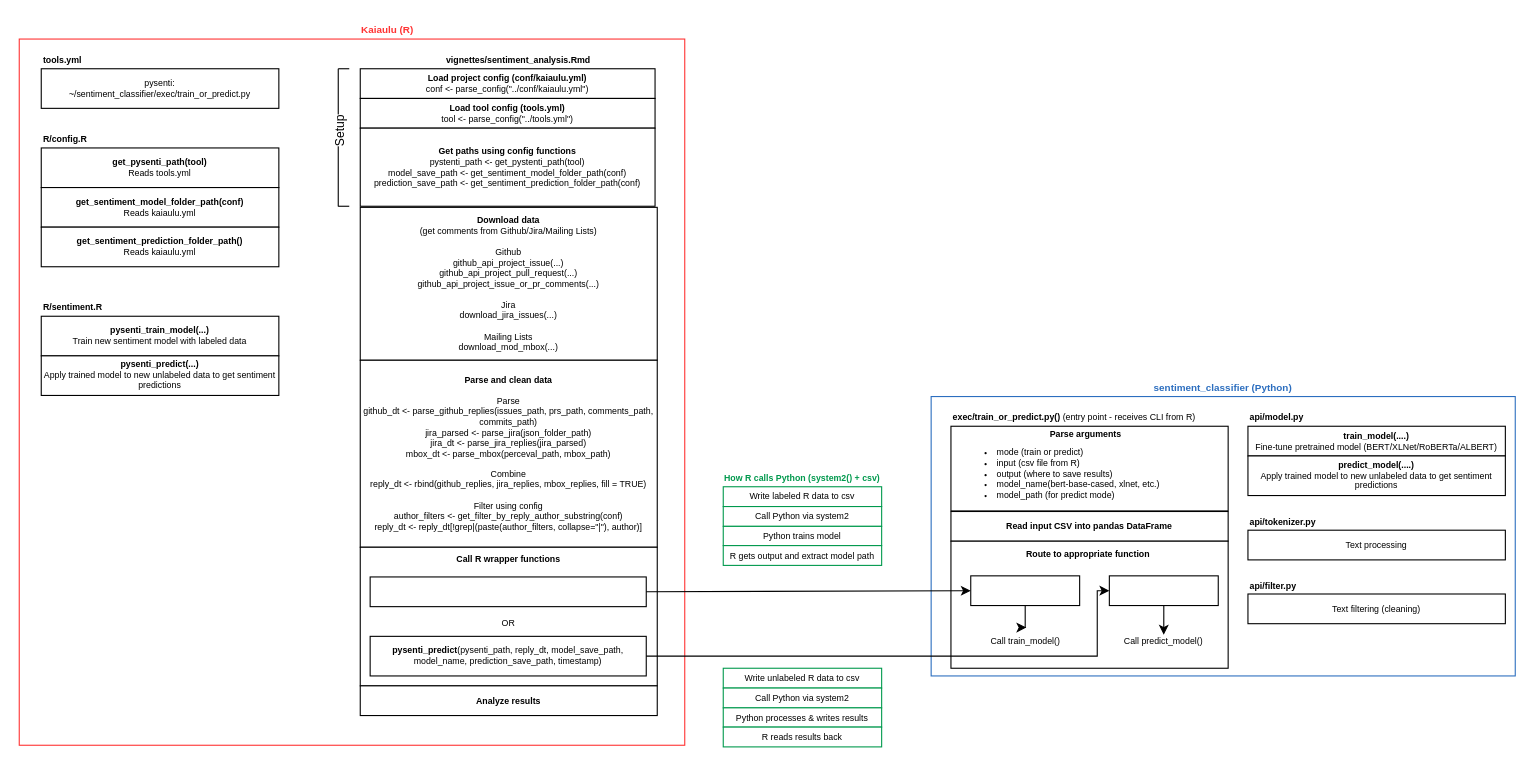
Some shapes in this 1535 by 766 pixel diagram are drawn without their labels. The shapes that lost their labels are listed below. From the top down, each one's centre as x and y in pixels, then its label:
[507,591]: pysenti_train_model (pysenti_path, reply_dt, model_save_path, model_name)
[1025,590]: if mode == "train"
[1163,590]: if mode == "predict"
